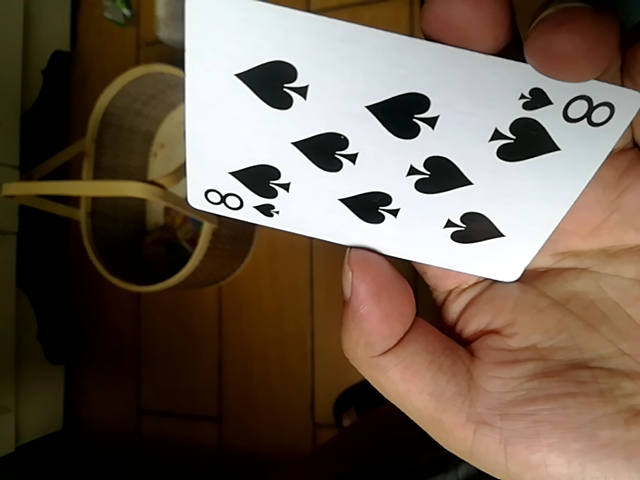ht 8: (182, 0, 640, 287)
